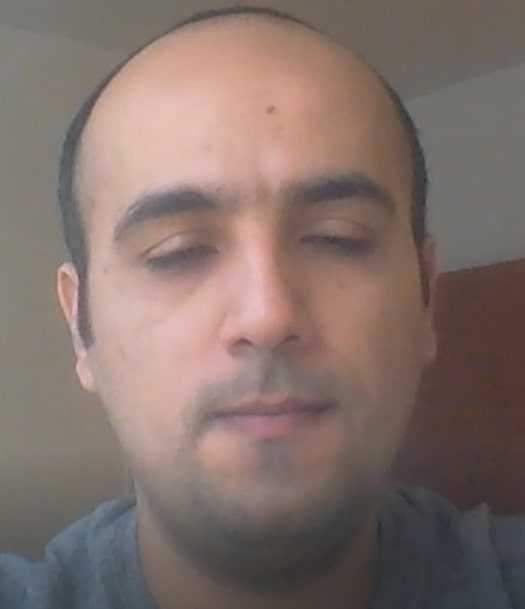Sleeping: (99, 177, 402, 294)
